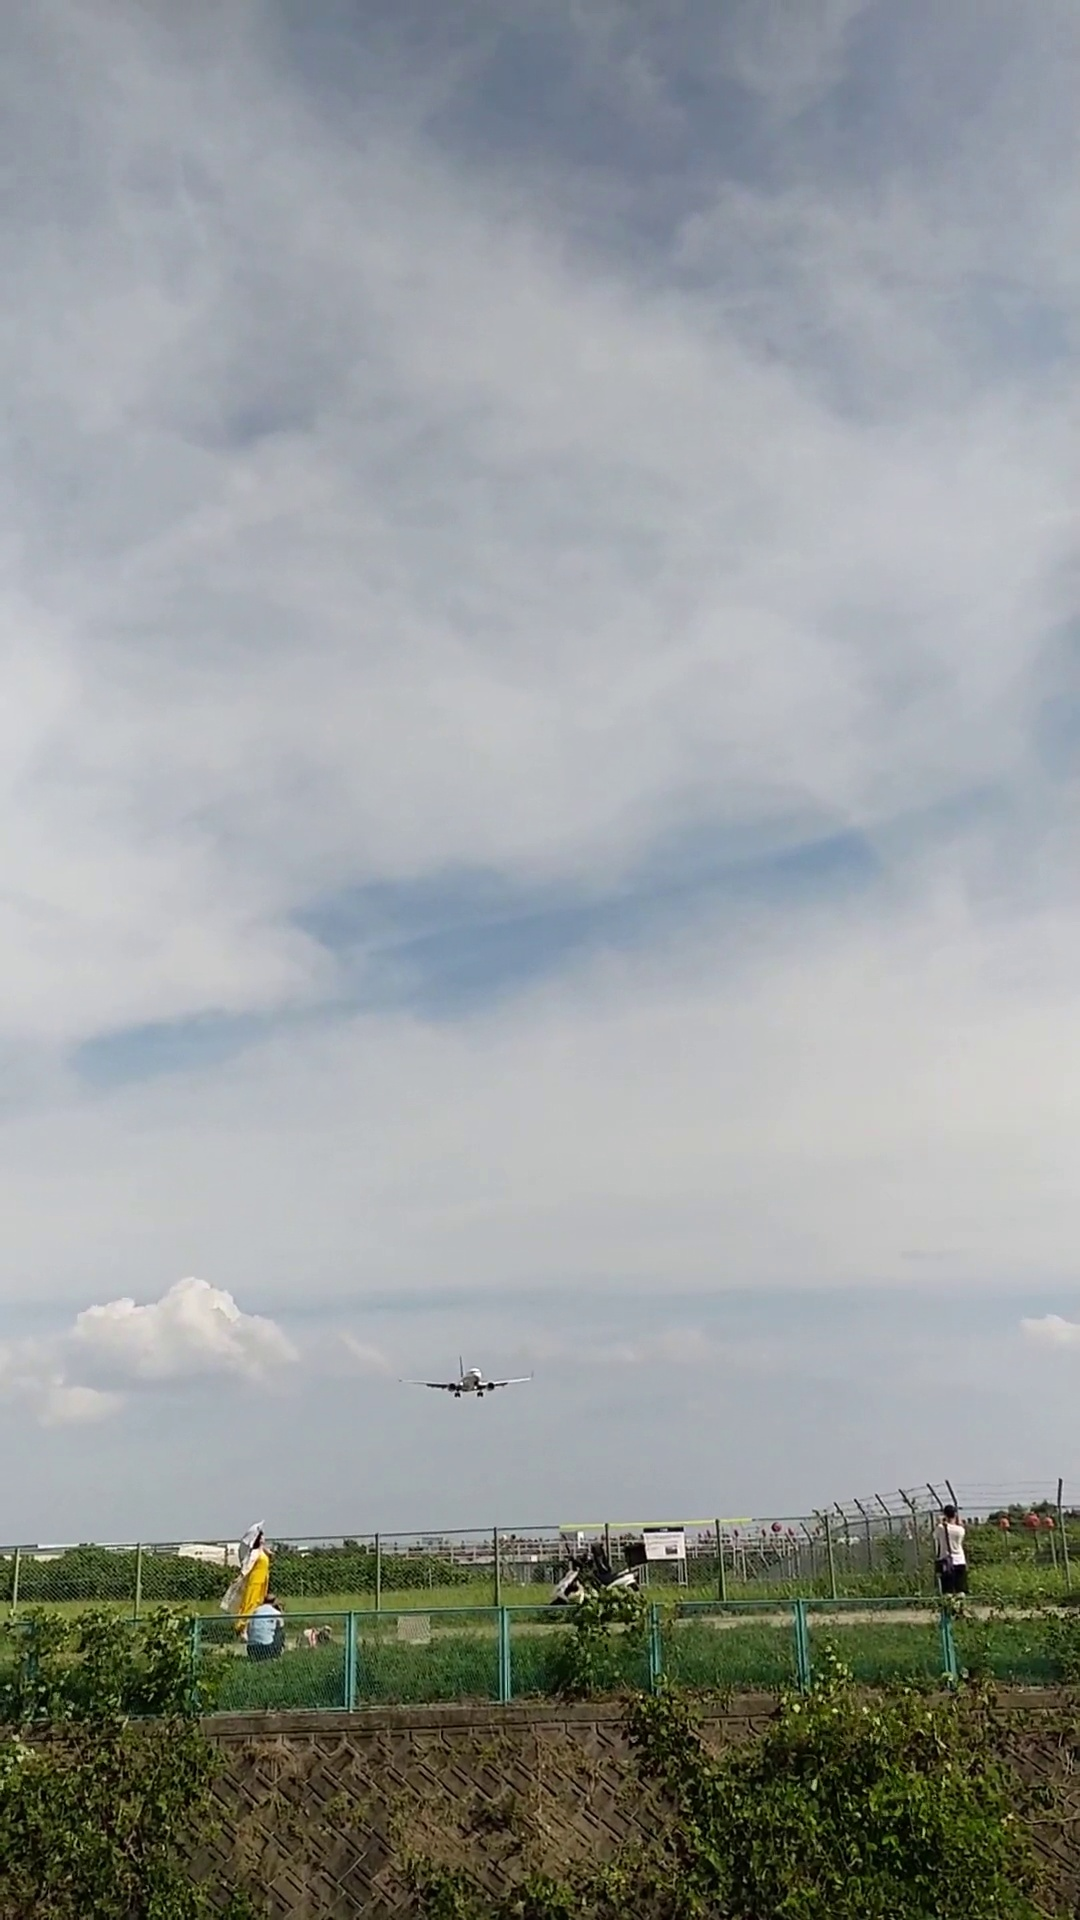plane: (396, 1354, 533, 1398)
